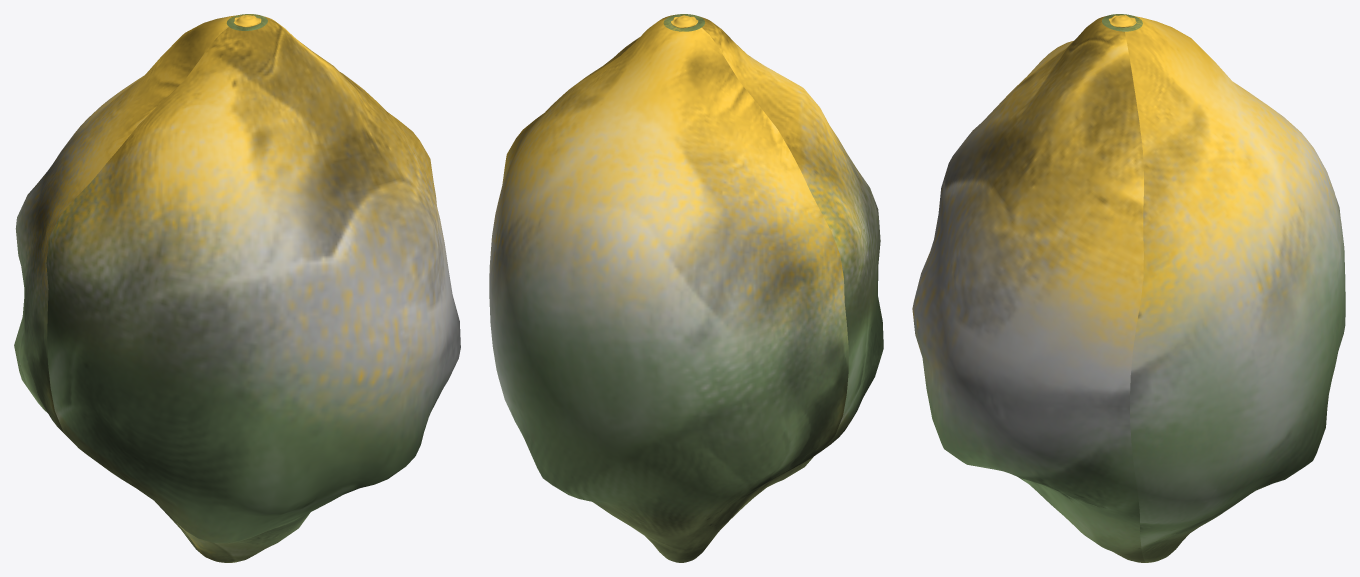
The model's file is mCitronP1outline.FBX.
3 renders of one model, left to right at view 1: azimuth 30°, elevation 25°; view 2: azimuth 150°, elevation 25°; view 3: azimuth 270°, elevation 25°, orthographic. The views are drawn at different scales.
Visible parts, largest first — view 1: Citron_Negatif_01_OUTLINE; view 2: Citron_Negatif_01_OUTLINE; view 3: Citron_Negatif_01_OUTLINE.
Boxes of the visible parts, <box> form: Citron_Negatif_01_OUTLINE: <box>14,14,460,562</box>; Citron_Negatif_01_OUTLINE: <box>489,14,883,562</box>; Citron_Negatif_01_OUTLINE: <box>912,14,1345,562</box>.
Size of the model in its own units: 1.48 by 2.14 by 1.53.
